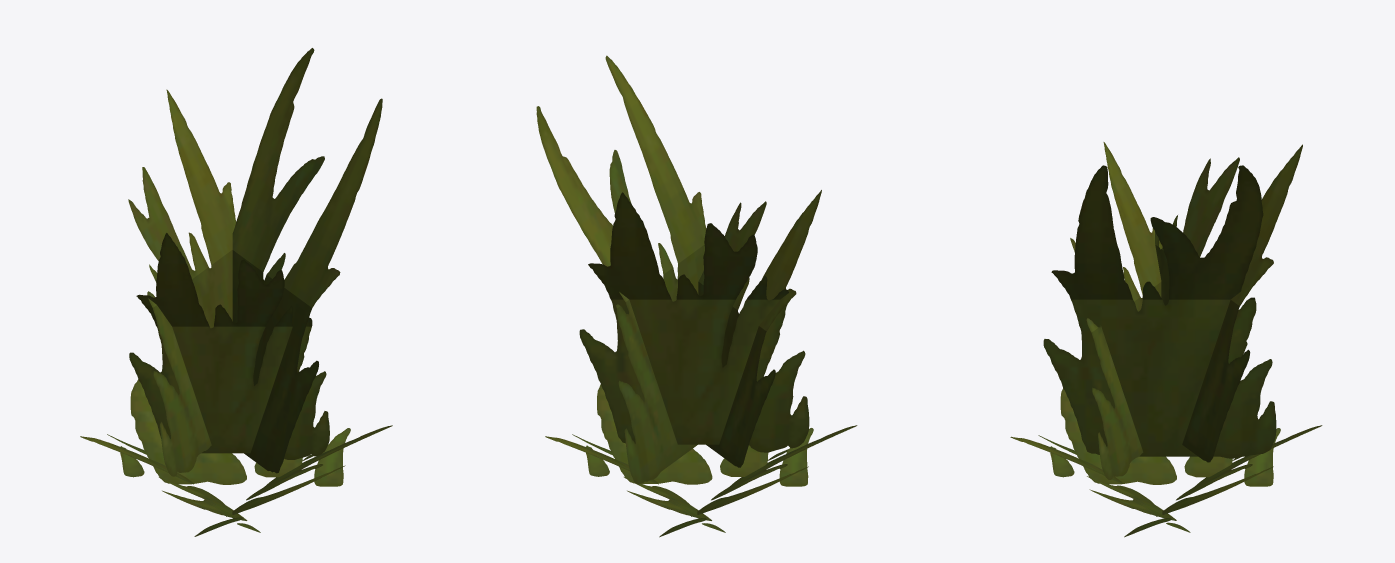
Rendered from grass_05.fbx.
3 renders of one model, left to right at view 1: azimuth 30°, elevation 25°; view 2: azimuth 150°, elevation 25°; view 3: azimuth 270°, elevation 25°, orthographic.
Parts seen in each view (by area): view 1: obj0.058; view 2: obj0.058; view 3: obj0.058.
Boxes of the visible parts, x1,y1,x2,y2 form: obj0.058: (80,48,392,536); obj0.058: (536,55,857,537); obj0.058: (1010,142,1322,537).
Size of the model in its own units: 1.43 by 1.72 by 1.65.
